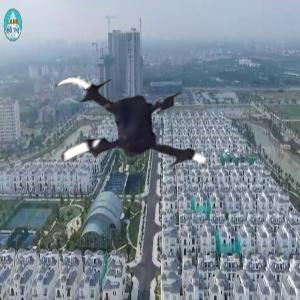drone: (35, 49, 211, 225)
